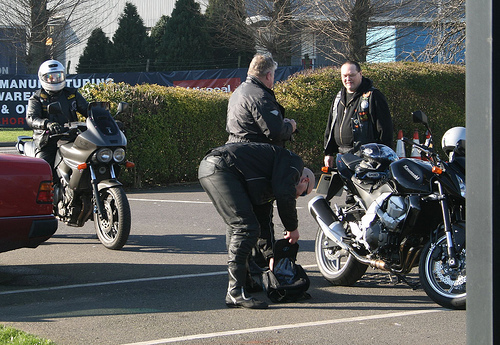helmet: (29, 59, 78, 90)
